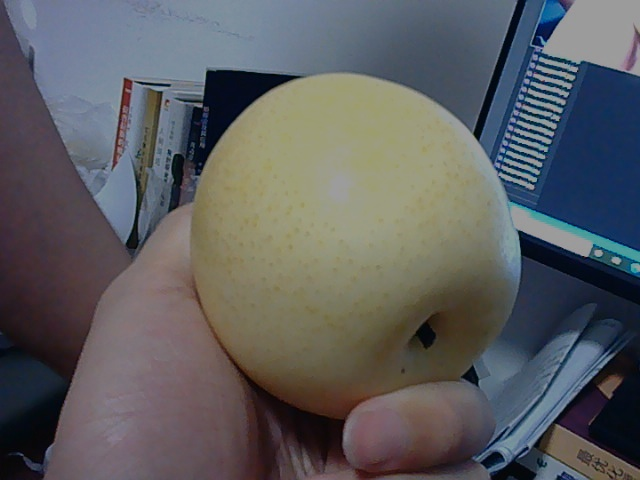pear: (199, 73, 520, 411)
